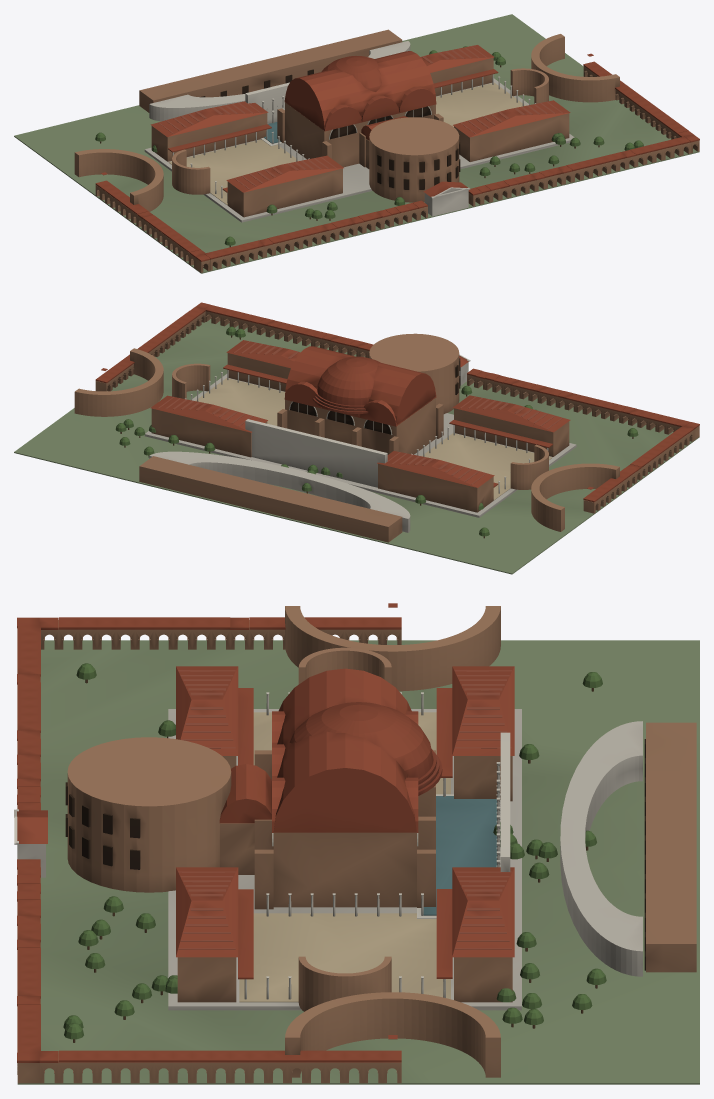
Rendered from baths-of-trajan.glb.
3 views of the same model, one above another, from view 1: azimuth 30°, elevation 25°; view 2: azimuth 150°, elevation 25°; view 3: azimuth 270°, elevation 25° (orthographic). The views are drawn at different scales.
Visible parts, largest first — view 1: p0_precinct, p1_halls, p2_domes; view 2: p0_precinct, p1_halls, p2_domes; view 3: p0_precinct, p1_halls, p2_domes.
Boxes of the visible parts, x1,y1,x2,y2 form: p0_precinct: (14, 14, 699, 273); p1_halls: (95, 41, 643, 247); p2_domes: (101, 45, 593, 198); p0_precinct: (14, 302, 699, 574); p1_halls: (115, 326, 638, 538); p2_domes: (101, 340, 593, 489); p0_precinct: (17, 606, 699, 1084); p1_halls: (63, 647, 642, 1042); p2_domes: (14, 603, 514, 1039).
Size of the model in its own units: 330 by 52.91 by 216.
